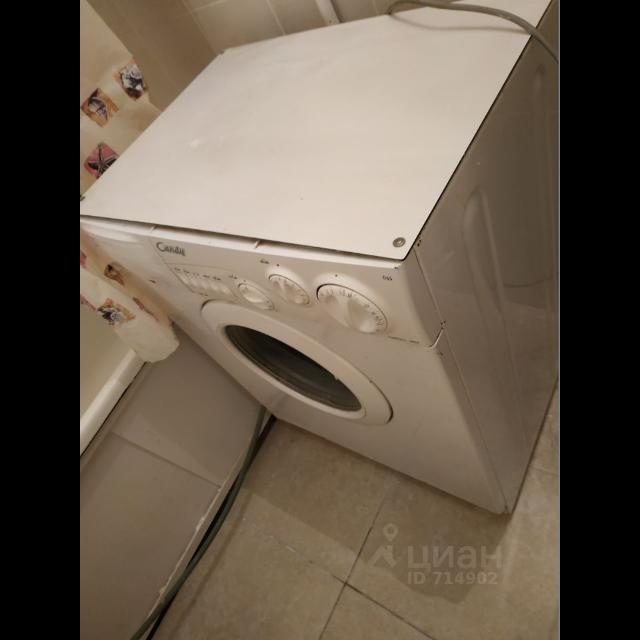Washing-Machine: (80, 0, 560, 514)
